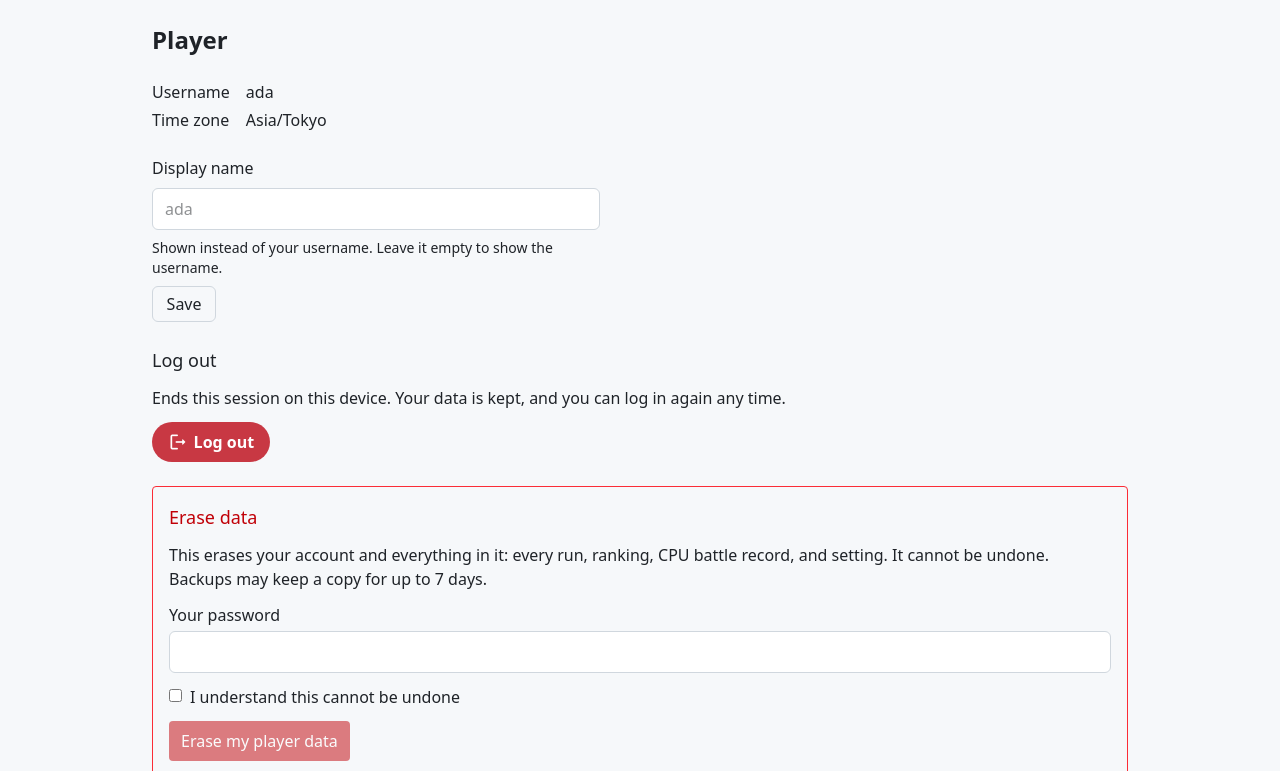
Test: the account screen › says why a display name was refused
Type "x" into the field labelled "Display name".
click(376, 209); type("x")  # box [152, 188, 600, 230]
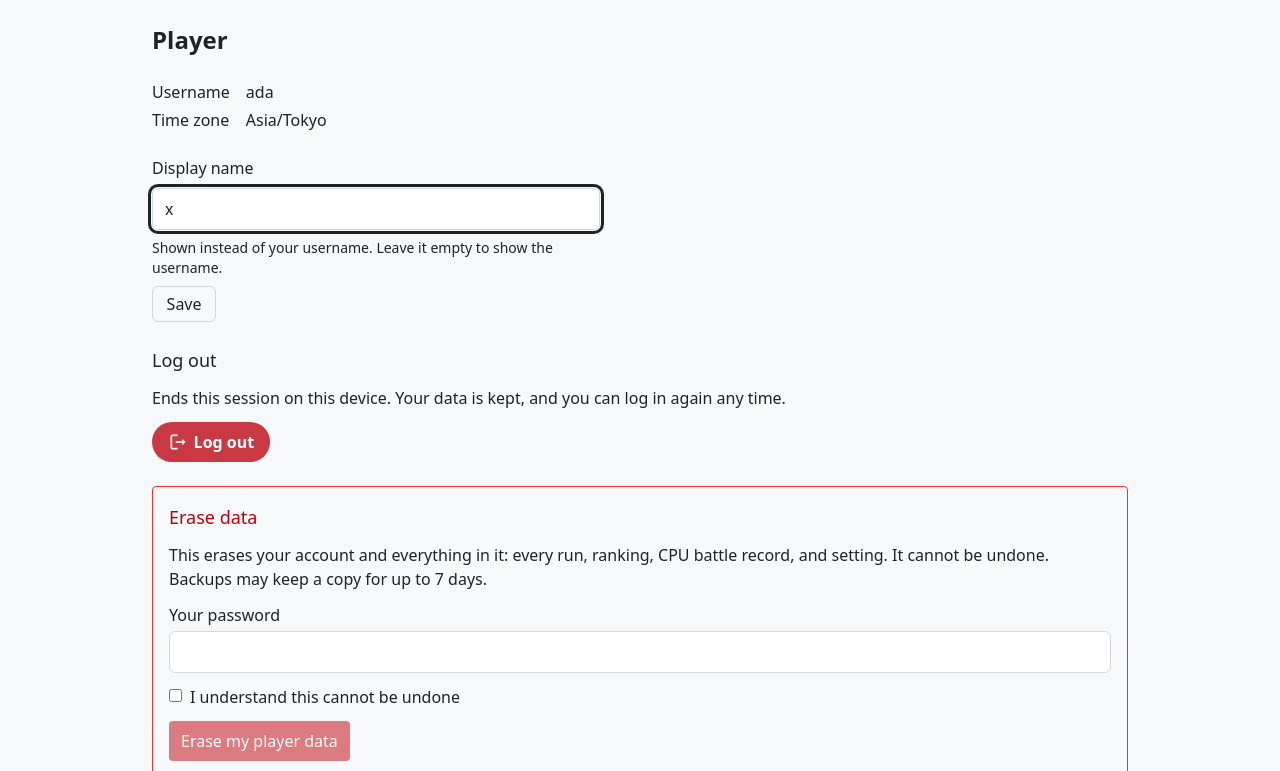
Click the button "Save".
click(184, 304)  # box [152, 286, 216, 322]
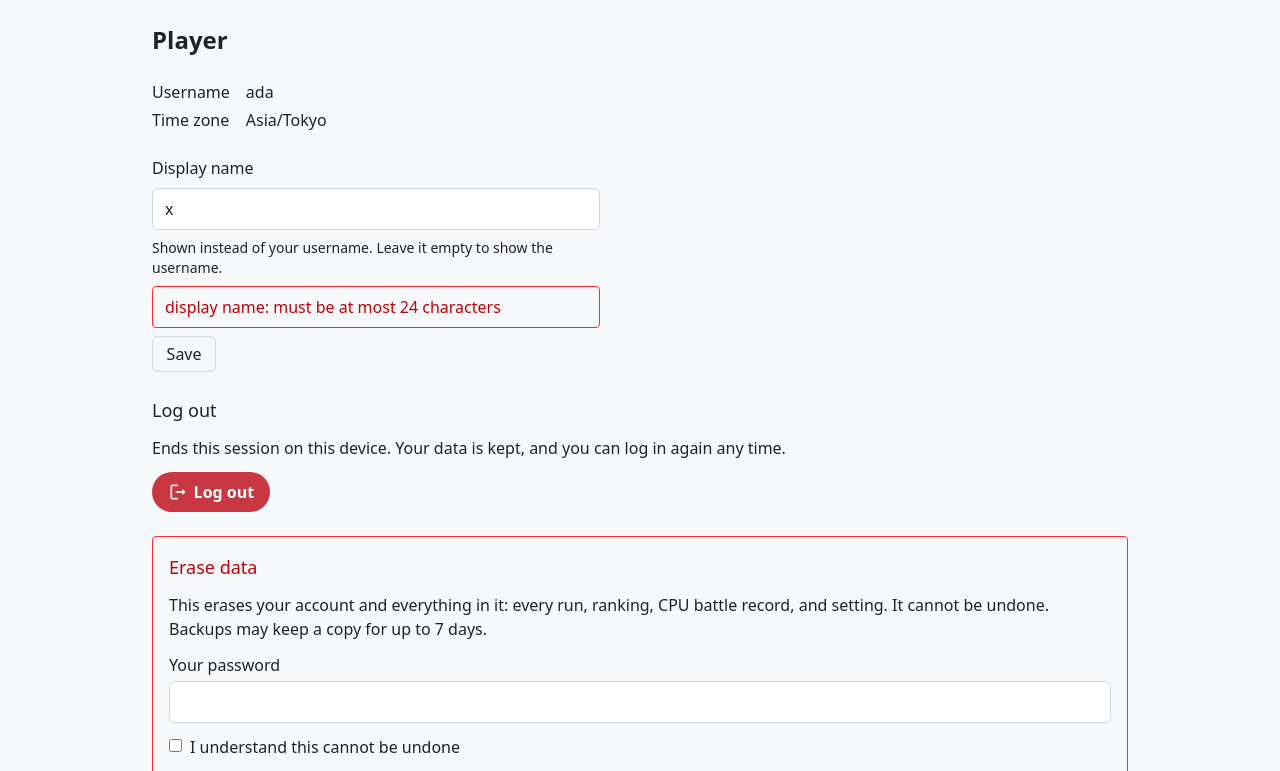
Result: the message shows "24" at [165, 296, 501, 318]
